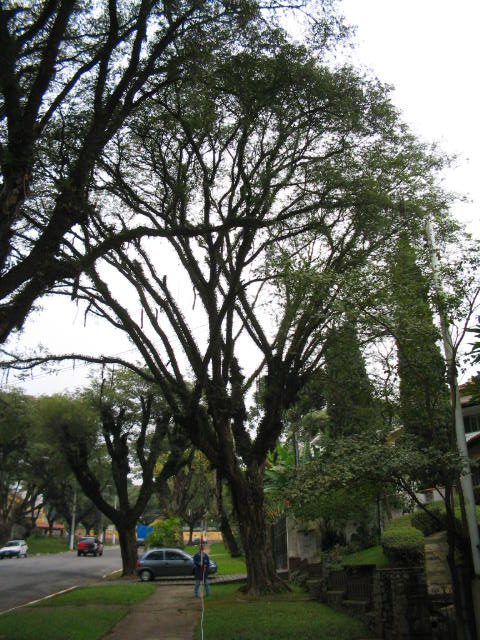stem: (216, 482, 300, 595), (105, 527, 150, 577)
stick: (195, 503, 211, 597)
tree: (40, 28, 441, 597), (42, 374, 215, 580)
